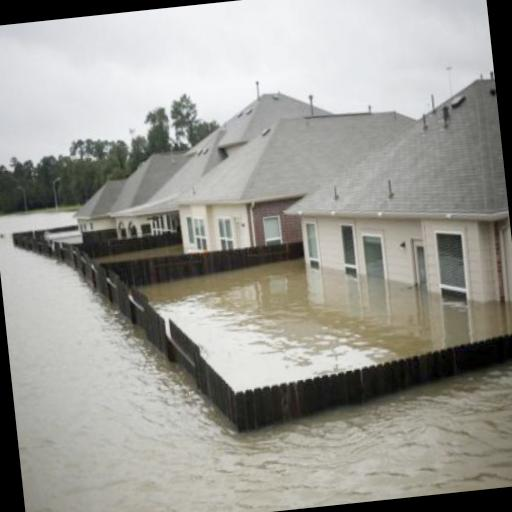flood: (0, 212, 512, 512), (141, 260, 512, 389), (103, 247, 179, 260)
house: (283, 65, 512, 319), (160, 102, 432, 262), (116, 85, 312, 229)
